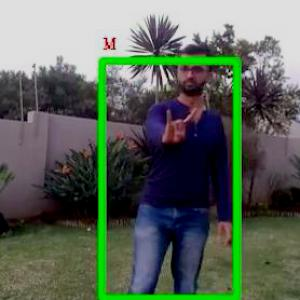takeoff-hand: (157, 102, 198, 144)
